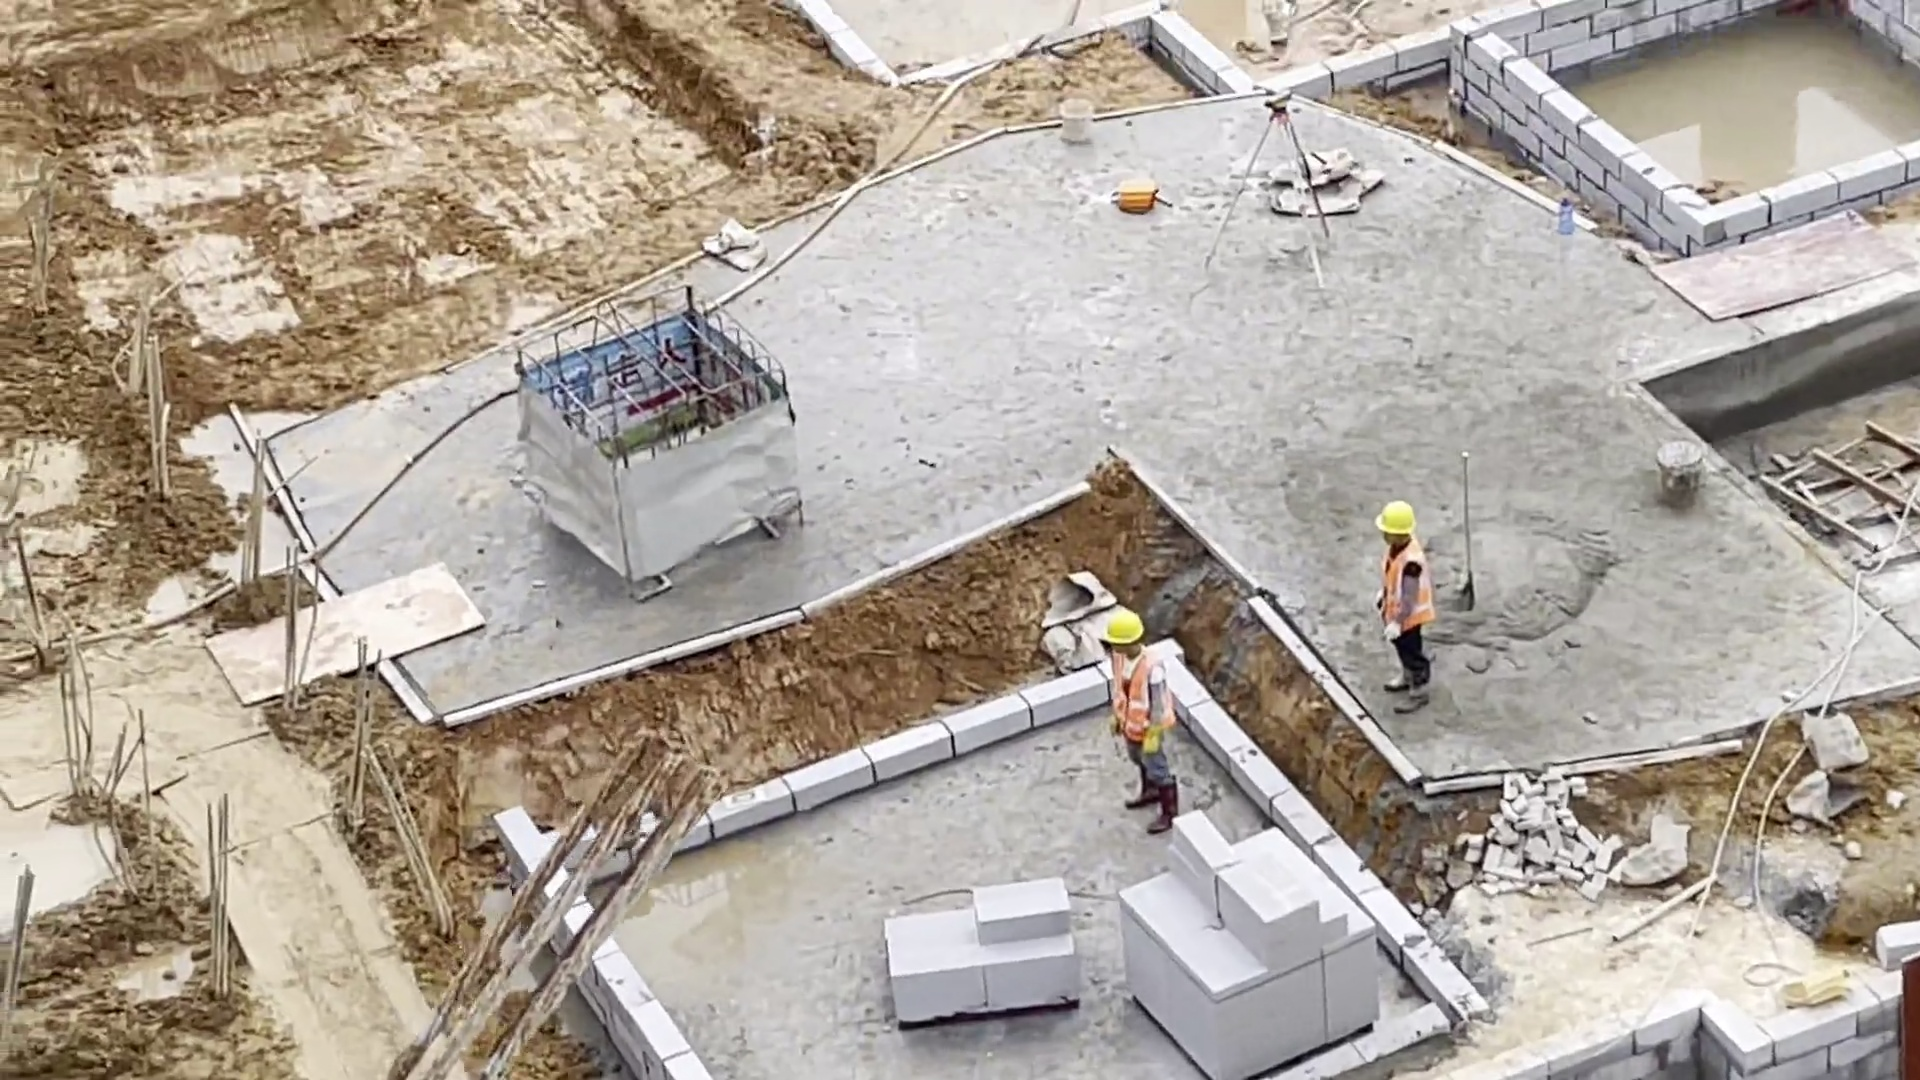brick: (1114, 808, 1391, 1079), (881, 876, 1077, 1027)
helmet: (1372, 497, 1413, 534), (1107, 608, 1144, 648)
person: (1100, 605, 1184, 838), (1373, 497, 1438, 727)
vest: (1111, 653, 1170, 746), (1379, 542, 1434, 632)
